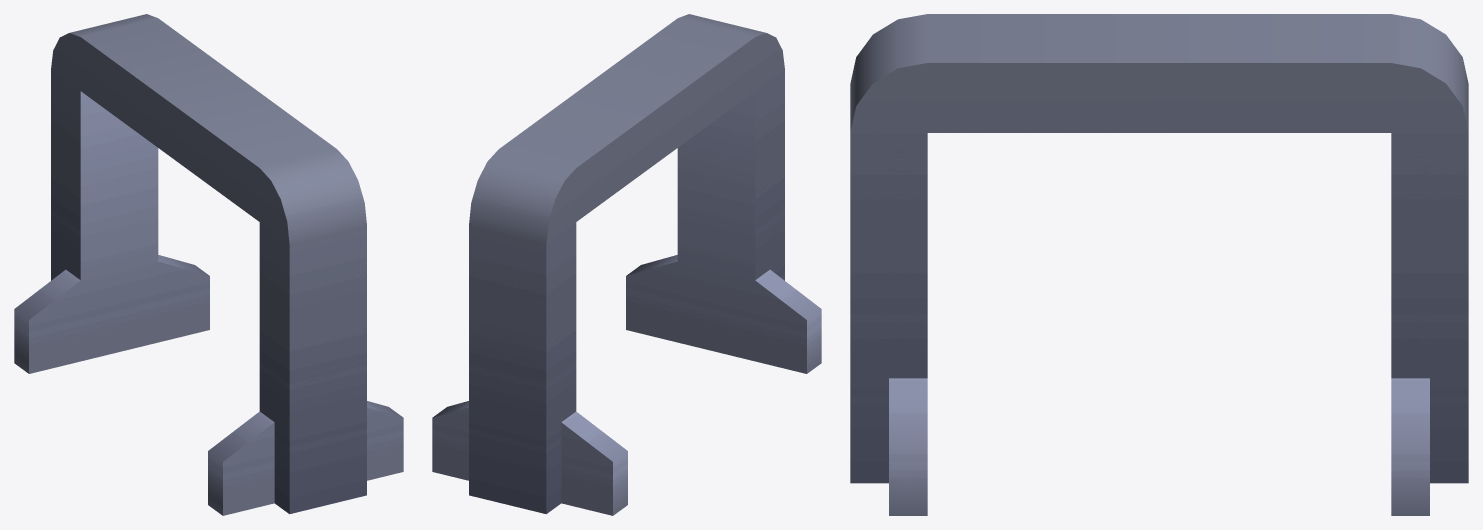
The model's file is kcv_scanner_high.glb.
3 views of the same model, side by side, from view 1: azimuth 30°, elevation 25°; view 2: azimuth 150°, elevation 25°; view 3: azimuth 270°, elevation 25° (orthographic). The views are drawn at different scales.
Visible parts, largest first — view 1: scanner-high; view 2: scanner-high; view 3: scanner-high.
Boxes of the visible parts, bbox=[...] form: scanner-high: bbox=[14, 14, 403, 515]; scanner-high: bbox=[432, 14, 821, 515]; scanner-high: bbox=[850, 14, 1468, 515].
Bounding box in the file's own units: 1.4 × 2.4 × 3.2.
1 material, 1 textured.
